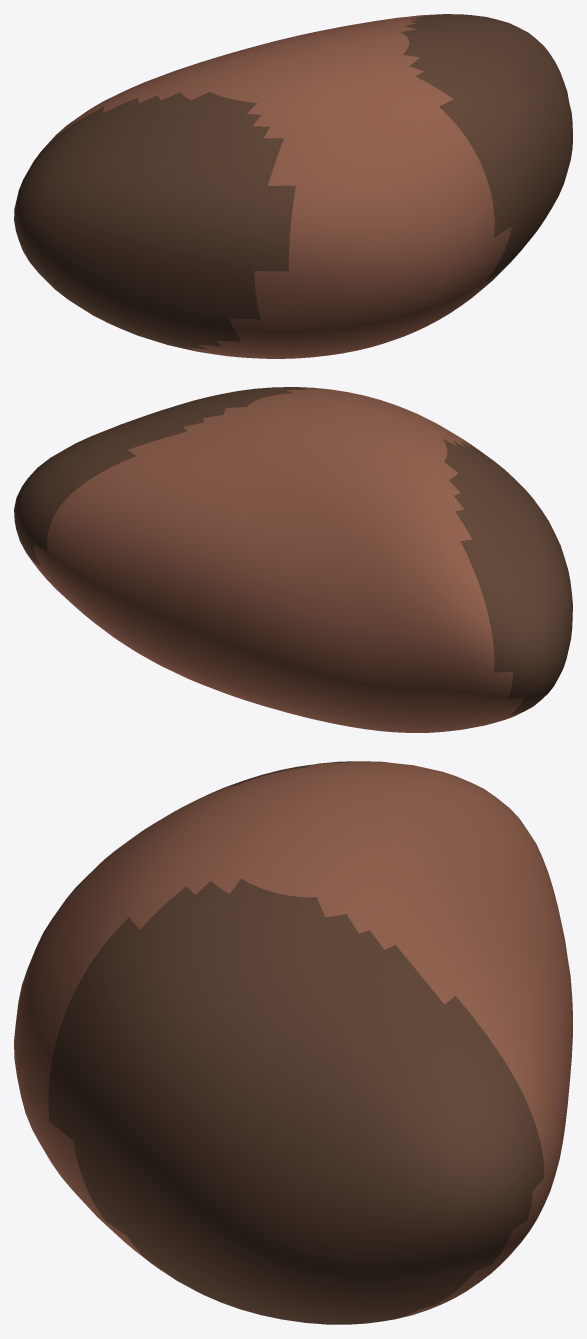
The model's file is Stone_05_Bean.fbx.
The picture shows the model from 3 angles, top to bottom: view 1: azimuth 30°, elevation 25°; view 2: azimuth 150°, elevation 25°; view 3: azimuth 270°, elevation 25°; orthographic projection. The views are drawn at different scales.
Visible parts, largest first — view 1: Stone_05_Bean; view 2: Stone_05_Bean; view 3: Stone_05_Bean.
Part boxes in pixels (<box>): Stone_05_Bean: <box>14,14,572,358</box>; Stone_05_Bean: <box>14,387,572,732</box>; Stone_05_Bean: <box>14,761,572,1324</box>.
Bounding box in the file's own units: 0.049 × 0.0253 × 0.0292.
